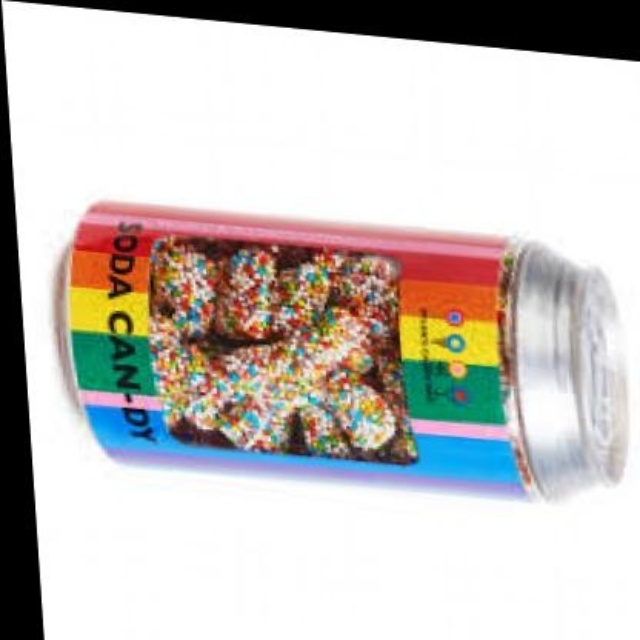trash: (58, 202, 626, 497)
